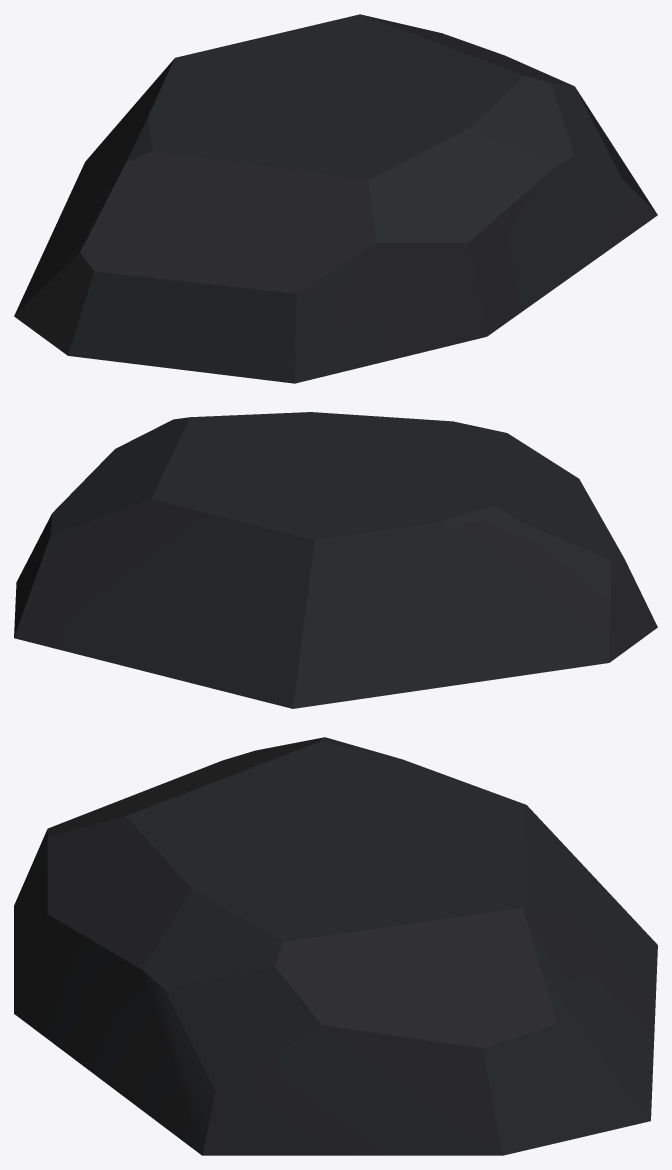
Rendered from Rock_2.fbx.
3 renders of one model, top to bottom at view 1: azimuth 30°, elevation 25°; view 2: azimuth 150°, elevation 25°; view 3: azimuth 270°, elevation 25°, orthographic. The views are drawn at different scales.
Parts seen in each view (by area): view 1: Rock_2; view 2: Rock_2; view 3: Rock_2.
Part boxes in pixels (x1=…): Rock_2: x1=14, y1=14, x2=657, y2=383; Rock_2: x1=14, y1=412, x2=657, y2=708; Rock_2: x1=14, y1=737, x2=657, y2=1155.
Bounding box in the file's own units: 12.83 × 2.88 × 10.59.
